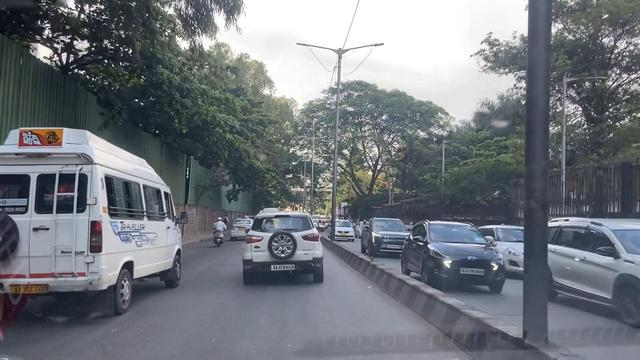HMV: (0, 131, 183, 311)
LMV: (244, 203, 326, 284)
